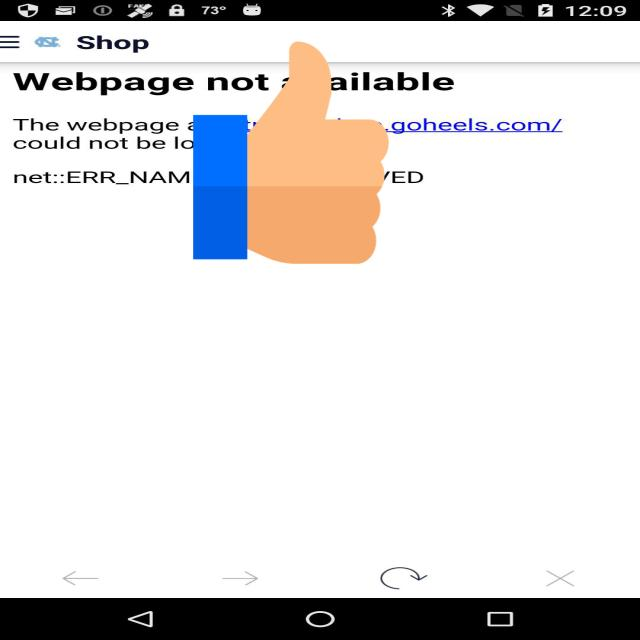privacy zuckering: (193, 36, 389, 269)
